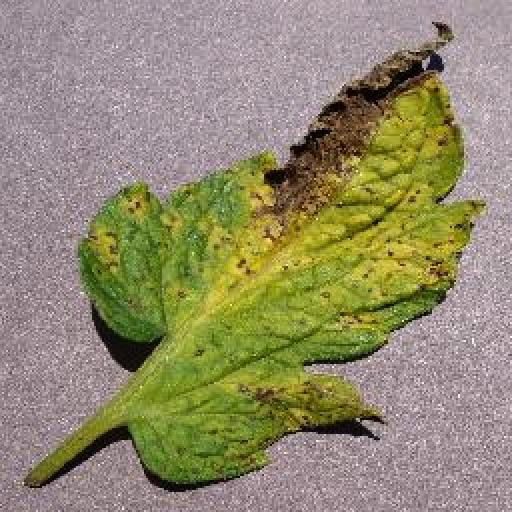disease_tomato: (80, 24, 488, 486)
